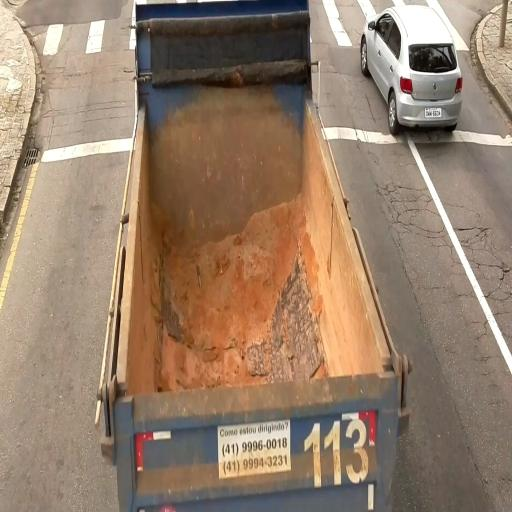car: (359, 5, 461, 136)
others: (97, 7, 394, 511)
